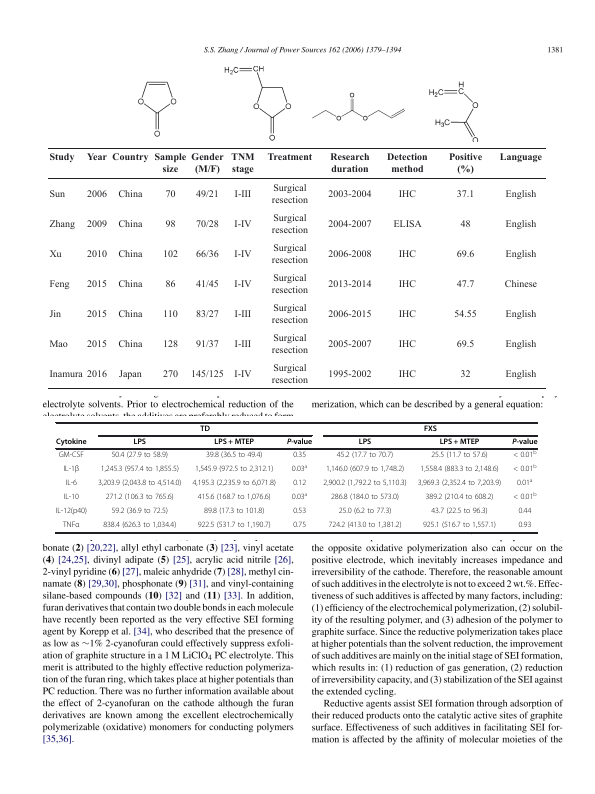borderless: (47, 147, 546, 388), (54, 421, 537, 532)
cell: (386, 153, 428, 176), (329, 153, 370, 176), (270, 213, 309, 237), (270, 184, 309, 207), (270, 243, 309, 266), (270, 273, 309, 296), (270, 303, 309, 326), (270, 333, 309, 356), (270, 363, 309, 386), (191, 479, 277, 489), (322, 479, 408, 489), (97, 479, 182, 489), (417, 479, 502, 489), (448, 153, 483, 176), (100, 465, 180, 475), (194, 465, 274, 475), (325, 465, 405, 475), (419, 465, 499, 475), (153, 153, 187, 176), (190, 153, 224, 176), (197, 493, 272, 503), (102, 521, 177, 531), (197, 521, 272, 531), (327, 521, 402, 531), (422, 521, 497, 531), (105, 493, 175, 503), (330, 493, 400, 503), (424, 493, 494, 503), (203, 507, 265, 517), (110, 451, 169, 461), (430, 451, 489, 461), (110, 507, 169, 517), (430, 507, 489, 517), (205, 451, 263, 461), (336, 451, 394, 461), (230, 153, 255, 176), (338, 507, 392, 517), (327, 219, 372, 231), (266, 153, 313, 164), (498, 153, 543, 164), (327, 190, 372, 201), (327, 249, 372, 260), (327, 279, 372, 290), (327, 309, 372, 320), (327, 339, 372, 350), (327, 369, 372, 380), (213, 438, 255, 448), (111, 153, 149, 164), (439, 438, 480, 448), (504, 219, 537, 231), (503, 279, 538, 290), (48, 369, 83, 380), (190, 369, 224, 380), (504, 190, 537, 201), (504, 249, 537, 260), (504, 309, 537, 320), (504, 339, 537, 350), (504, 369, 537, 380), (392, 219, 422, 231), (48, 219, 76, 231), (55, 507, 88, 517), (55, 438, 87, 448), (117, 219, 143, 231), (48, 153, 75, 164), (195, 219, 219, 231), (117, 190, 143, 201), (117, 249, 143, 260), (117, 279, 143, 290), (117, 309, 143, 320), (117, 339, 143, 350), (512, 450, 537, 461), (512, 464, 537, 475), (512, 492, 537, 503), (286, 438, 313, 448), (511, 438, 538, 448), (58, 451, 85, 461), (195, 190, 219, 201), (86, 219, 108, 231), (195, 249, 219, 260), (195, 279, 219, 290), (195, 309, 219, 320), (453, 309, 477, 320), (195, 339, 219, 350), (118, 369, 142, 380), (86, 153, 108, 164), (85, 190, 107, 201), (85, 249, 107, 260), (48, 279, 70, 290), (86, 279, 108, 290), (86, 309, 108, 320), (86, 339, 108, 350), (86, 369, 108, 380), (233, 219, 252, 231), (397, 190, 417, 201), (455, 190, 475, 201), (397, 249, 417, 260), (455, 249, 475, 260), (397, 279, 417, 290), (455, 279, 475, 290), (397, 309, 417, 320), (48, 339, 68, 350), (397, 339, 417, 350), (455, 339, 475, 350), (397, 369, 417, 380), (233, 190, 252, 201), (233, 249, 252, 260), (233, 279, 252, 290), (233, 309, 252, 320), (233, 339, 252, 350), (233, 369, 252, 380), (48, 190, 66, 201), (291, 464, 308, 475), (516, 478, 533, 489), (291, 492, 308, 503), (162, 249, 179, 260), (162, 339, 179, 350), (162, 369, 179, 380), (62, 465, 80, 475), (62, 521, 80, 531), (162, 309, 178, 320), (63, 493, 80, 503), (48, 249, 62, 260), (48, 309, 62, 320), (132, 438, 147, 448), (292, 451, 307, 461), (292, 479, 307, 489), (292, 507, 307, 517), (517, 507, 532, 517), (292, 521, 307, 531), (517, 521, 532, 531), (164, 219, 176, 231), (459, 219, 471, 231), (358, 438, 372, 448), (64, 479, 78, 489), (423, 425, 438, 434), (164, 190, 176, 201), (164, 279, 176, 290), (459, 369, 471, 380), (199, 425, 211, 434)
